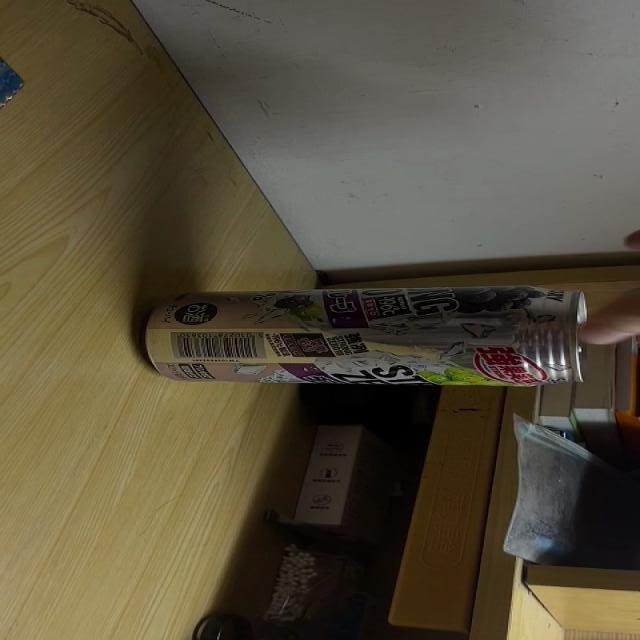Liquor: (138, 286, 589, 386)
